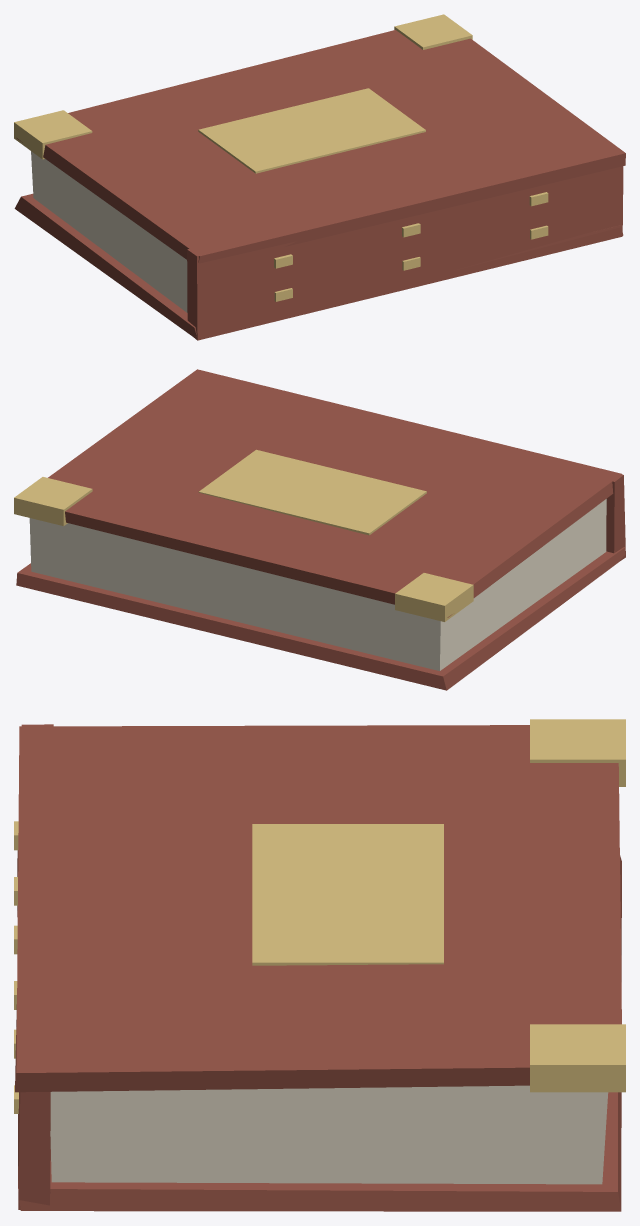
File: Guestbook_Book.fbx
The picture shows the model from 3 angles, top to bottom: view 1: azimuth 30°, elevation 25°; view 2: azimuth 150°, elevation 25°; view 3: azimuth 270°, elevation 25°; orthographic projection. The views are drawn at different scales.
Visible parts, largest first — view 1: Book_Cover, Book_Body; view 2: Book_Cover, Book_Body; view 3: Book_Cover, Book_Body.
Boxes of the visible parts, x1,y1,x2,y2 form: Book_Cover: [14, 14, 625, 263]; Book_Body: [14, 151, 623, 340]; Book_Cover: [14, 369, 622, 621]; Book_Body: [16, 474, 625, 690]; Book_Cover: [15, 719, 625, 1092]; Book_Body: [14, 724, 621, 1211].
Size of the model in its own units: 0.3035 by 0.0595 by 0.2235.
